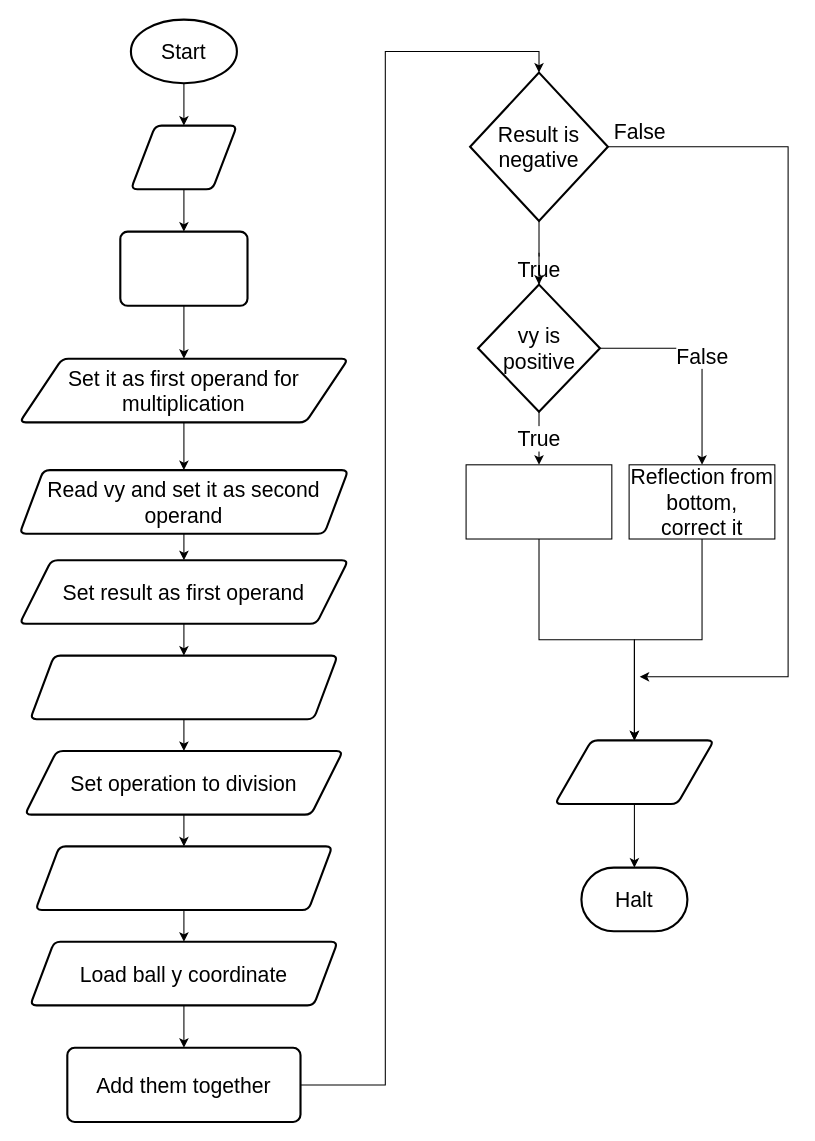
This 815x1141 diagram has some shape labels left out. The shapes that lost their labels are listed below. From the top down, each one's box as (x1, y1, x2, y2) in pixels, then its label:
(129, 124, 237, 190): Read ball x
(119, 230, 248, 306): Calculate 228 - (ball x)
(465, 464, 612, 539): Reflection from top, correct it
(29, 654, 338, 720): Set vx as second operand
(553, 739, 714, 805): Write bat position
(34, 845, 333, 911): Load result
